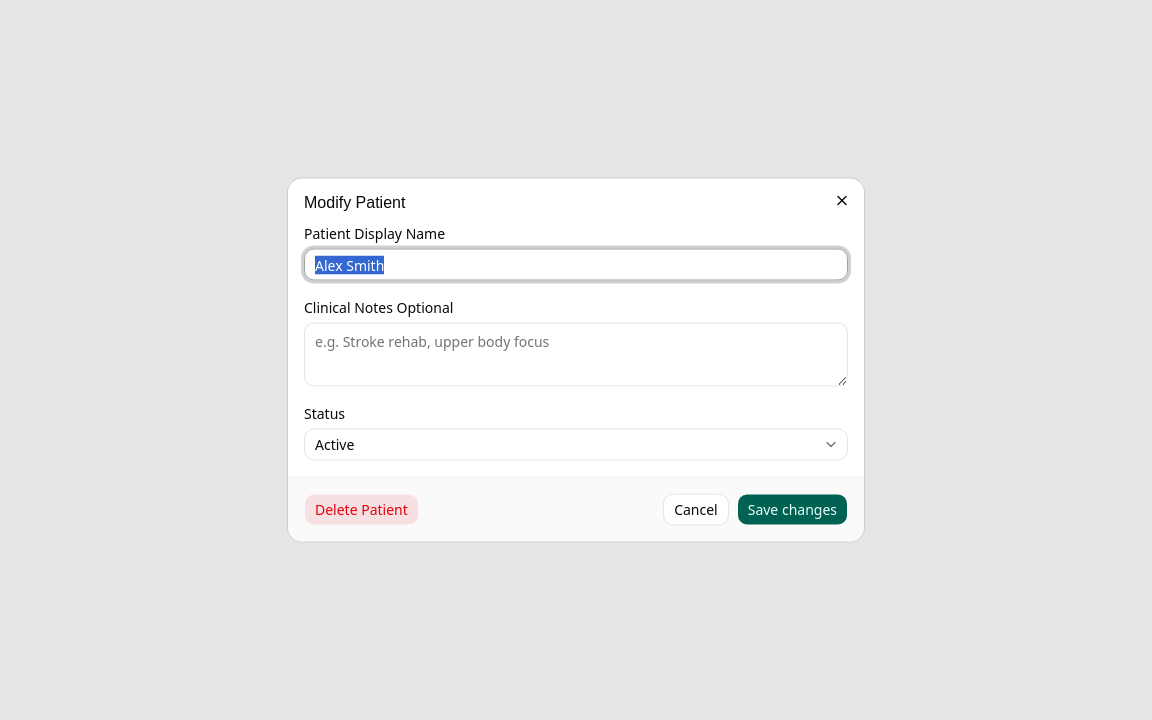
Scenario: ModifyPatientDialog › saving › shows the reason a save failed
Click the button "Save changes" at [792, 510], box x1=737 y1=494 x2=848 y2=526
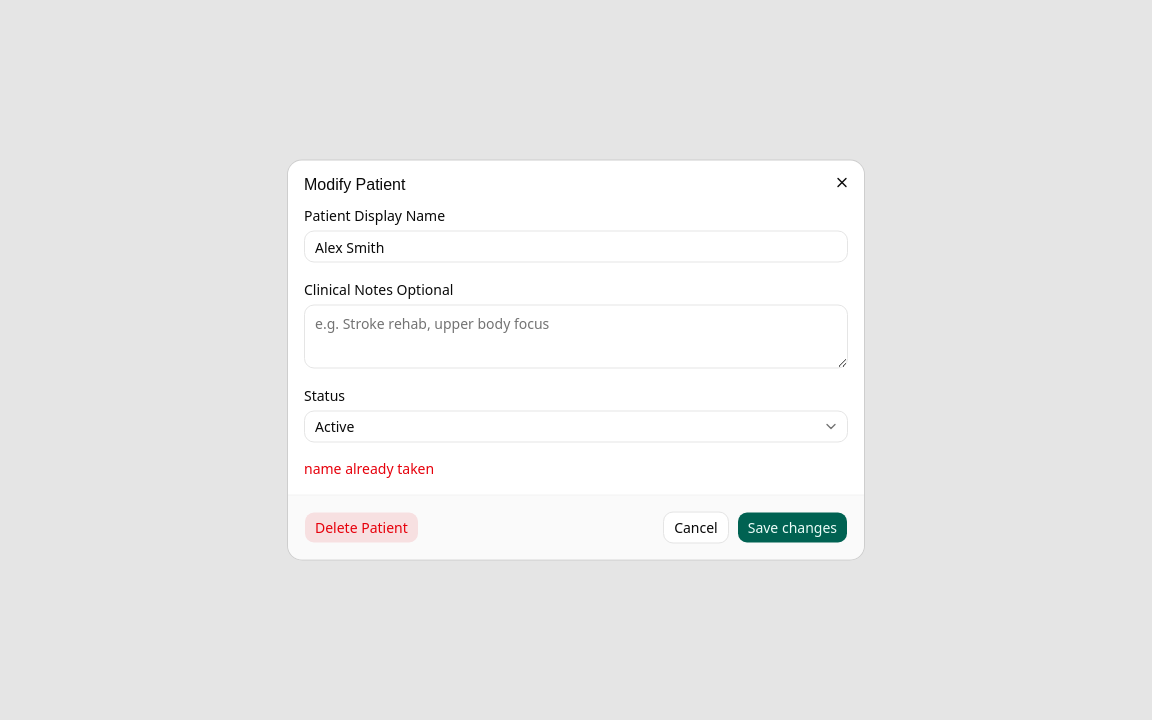
expect the message reads "name already taken": met, box x1=304 y1=458 x2=434 y2=478
